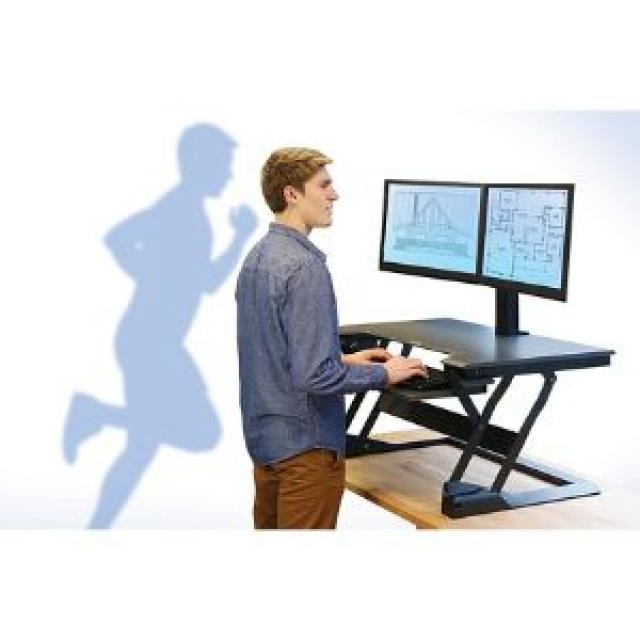adult: (207, 132, 418, 531)
